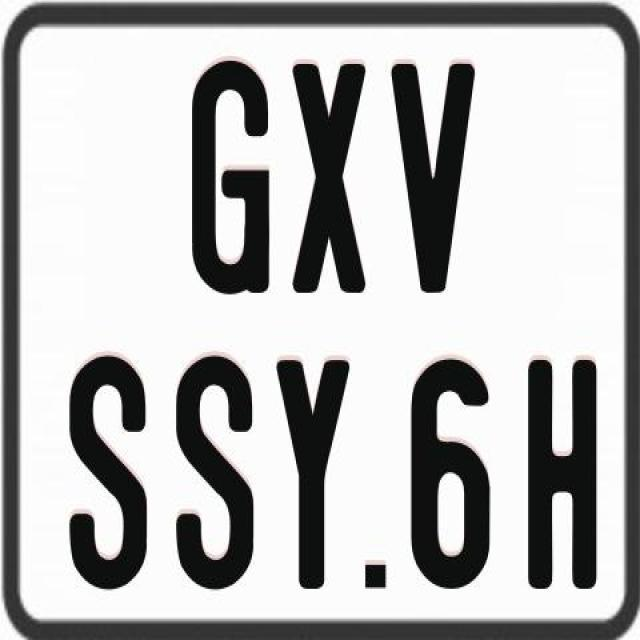6: (410, 357, 498, 590)
G: (190, 56, 270, 298)
H: (528, 360, 602, 592)
S: (176, 351, 255, 594), (65, 355, 144, 595)
V: (388, 64, 472, 293)
X: (292, 61, 369, 290)
Y: (274, 358, 349, 589)
